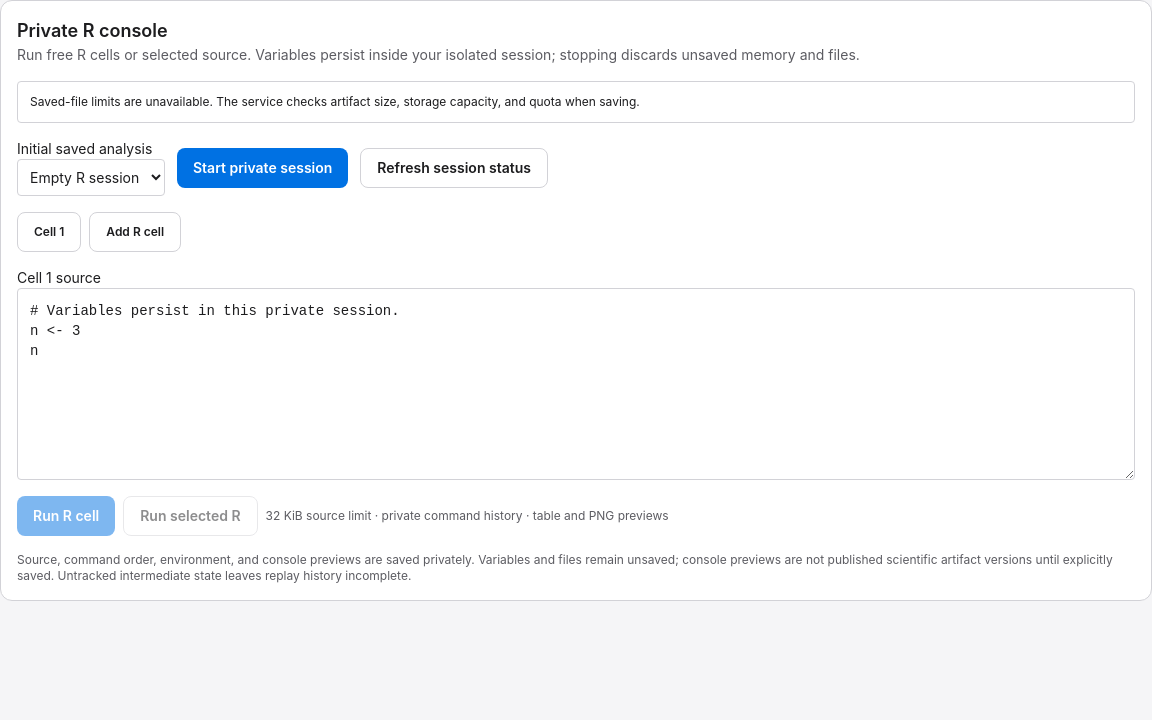
blocks further commands while a returned publication receipt remains unknown and never creates a partial preview
The width and height of the screenshot is (1152, 720).
Click the button "Start private session": (263, 168) [177,148,348,188]
(page scrolled)
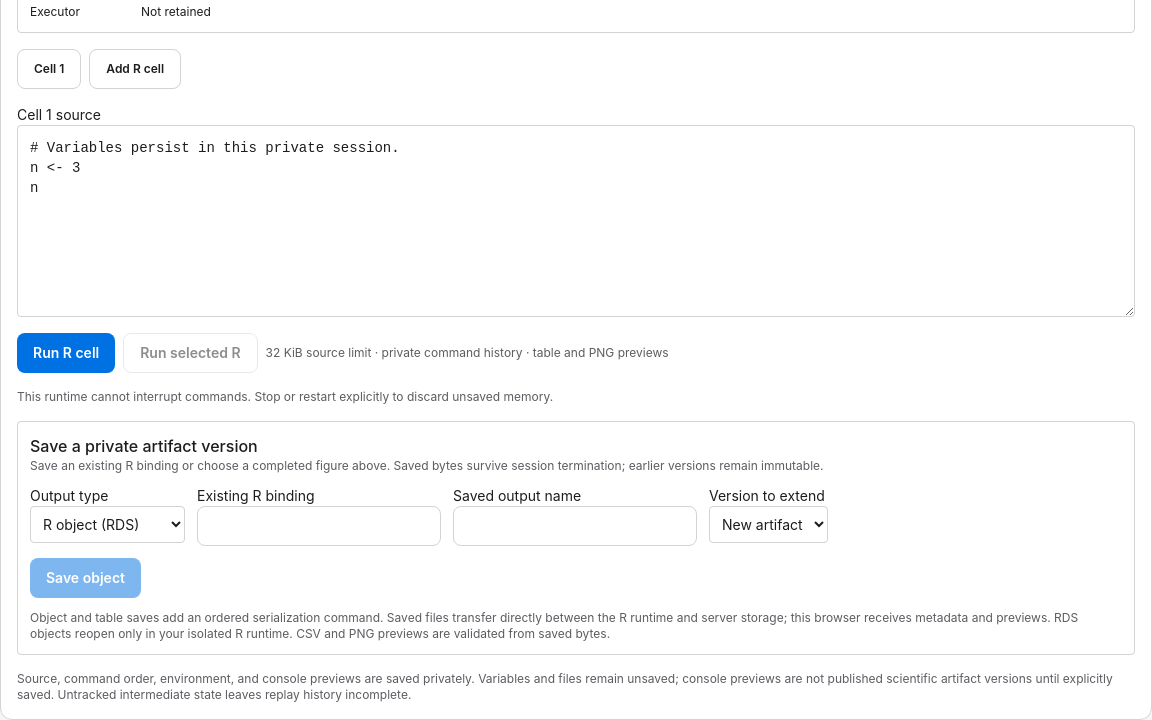
In the field labelled "Existing R binding": (319, 526) [197,506,441,546], type "obj"
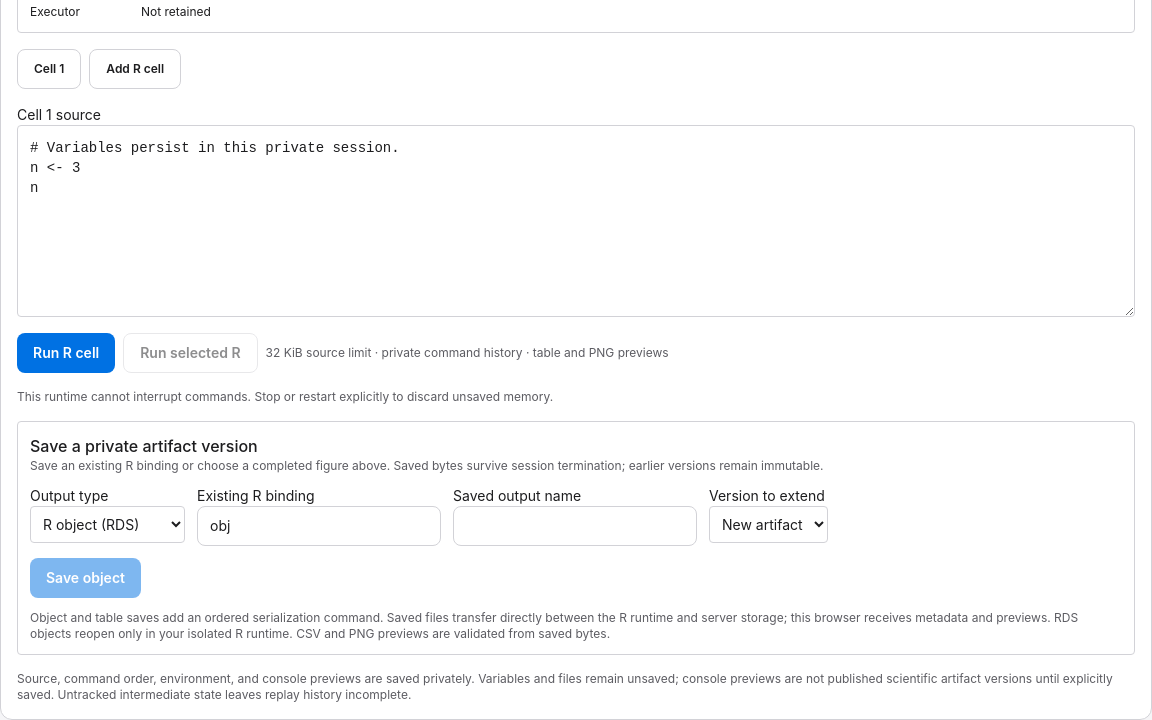
In the field labelled "Saved output name": (575, 526) [453,506,697,546], type "Saved cells"
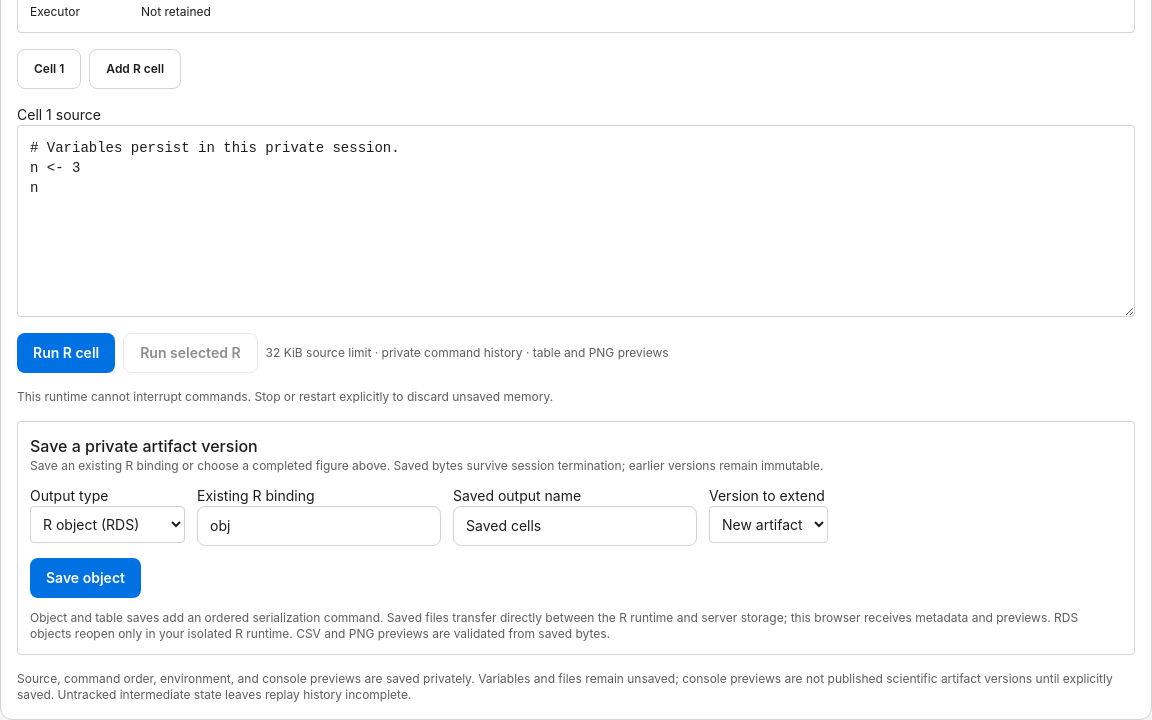
Click the button "Save object": (86, 578) [30,558,141,598]
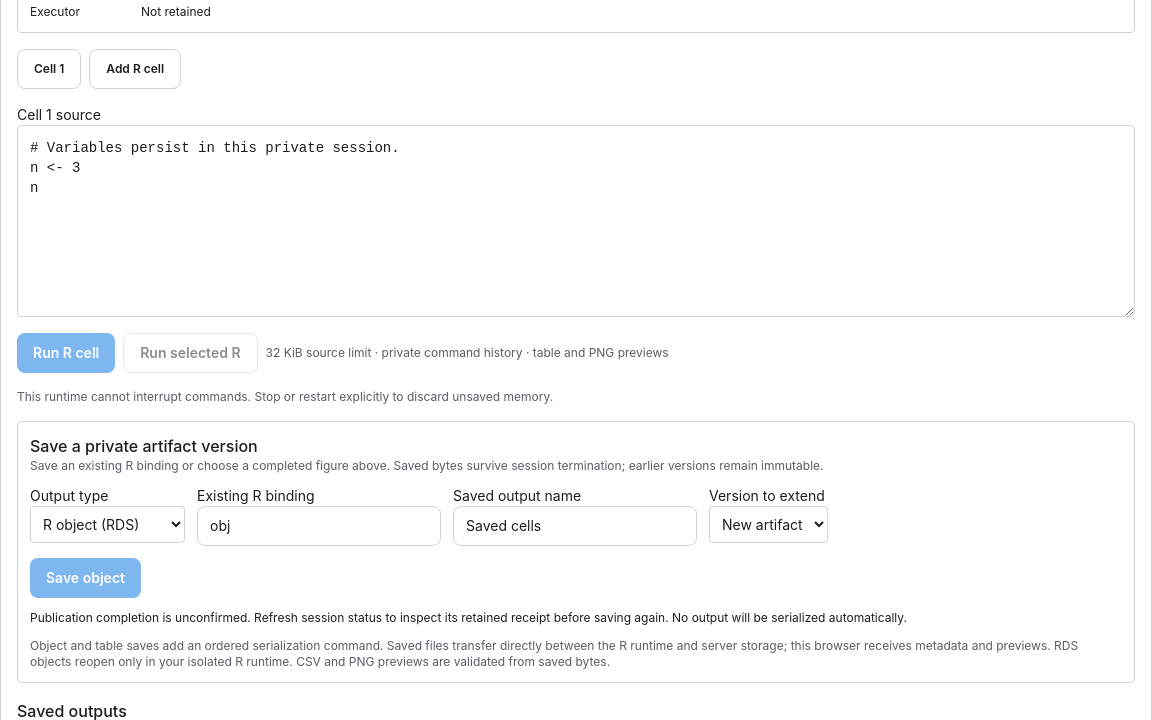
Expected: the button "Run R cell" is disabled, [17,333,115,373]
Expected: the button "Save object" is disabled, [30,558,141,598]
